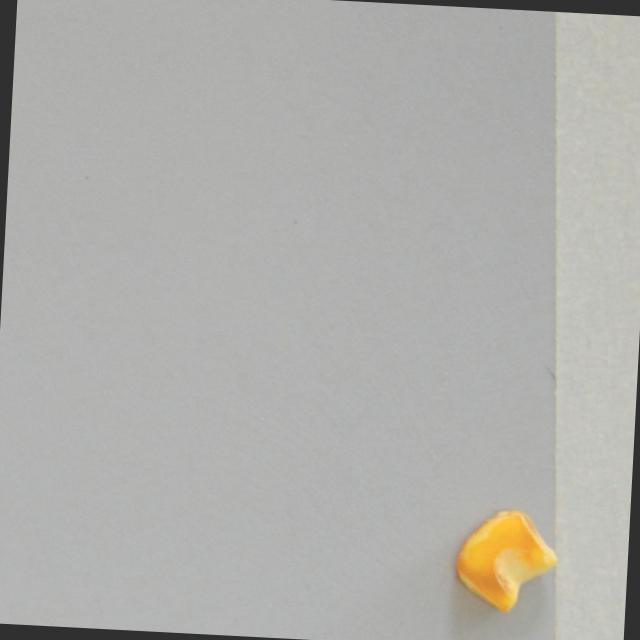dañado: (444, 499, 568, 628)
